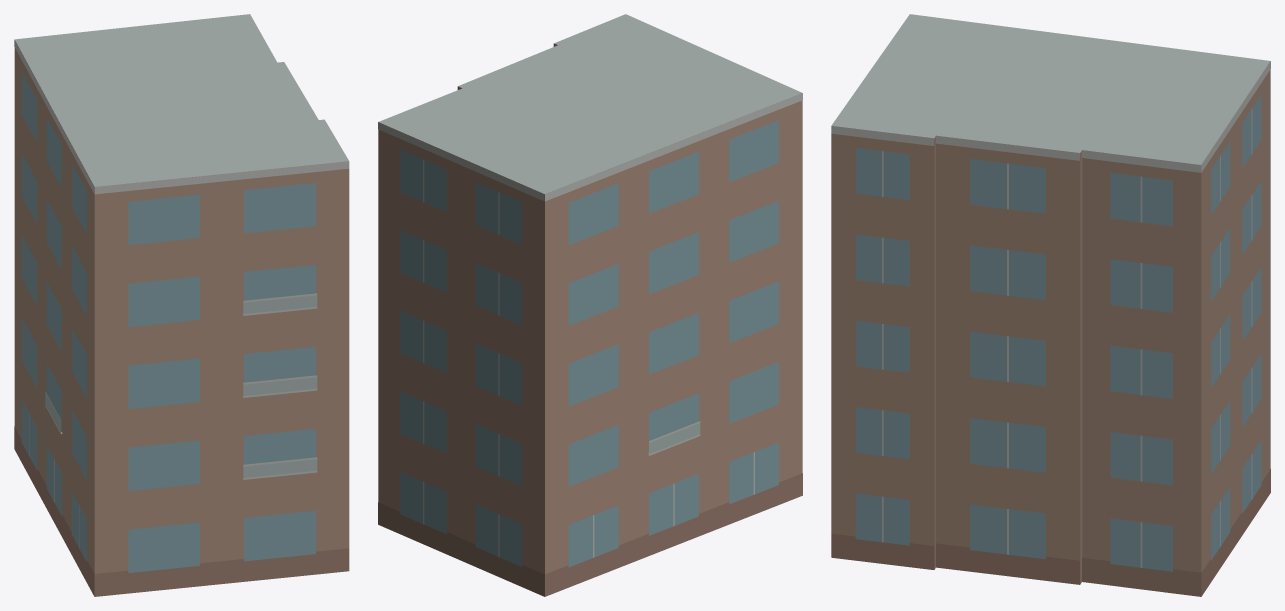
Rendered from survey-upis-32900014.glb.
3 renders of one model, left to right at view 1: azimuth 30°, elevation 25°; view 2: azimuth 150°, elevation 25°; view 3: azimuth 270°, elevation 25°, orthographic. The views are drawn at different scales.
Visible parts, largest first — view 1: survey-upis-32900014.tmp; view 2: survey-upis-32900014.tmp; view 3: survey-upis-32900014.tmp.
Part boxes in pixels (<box>): survey-upis-32900014.tmp: <box>14,14,349,596</box>; survey-upis-32900014.tmp: <box>378,14,802,596</box>; survey-upis-32900014.tmp: <box>831,14,1270,596</box>.
Size of the model in its own units: 10.06 by 13.4 by 12.37.
